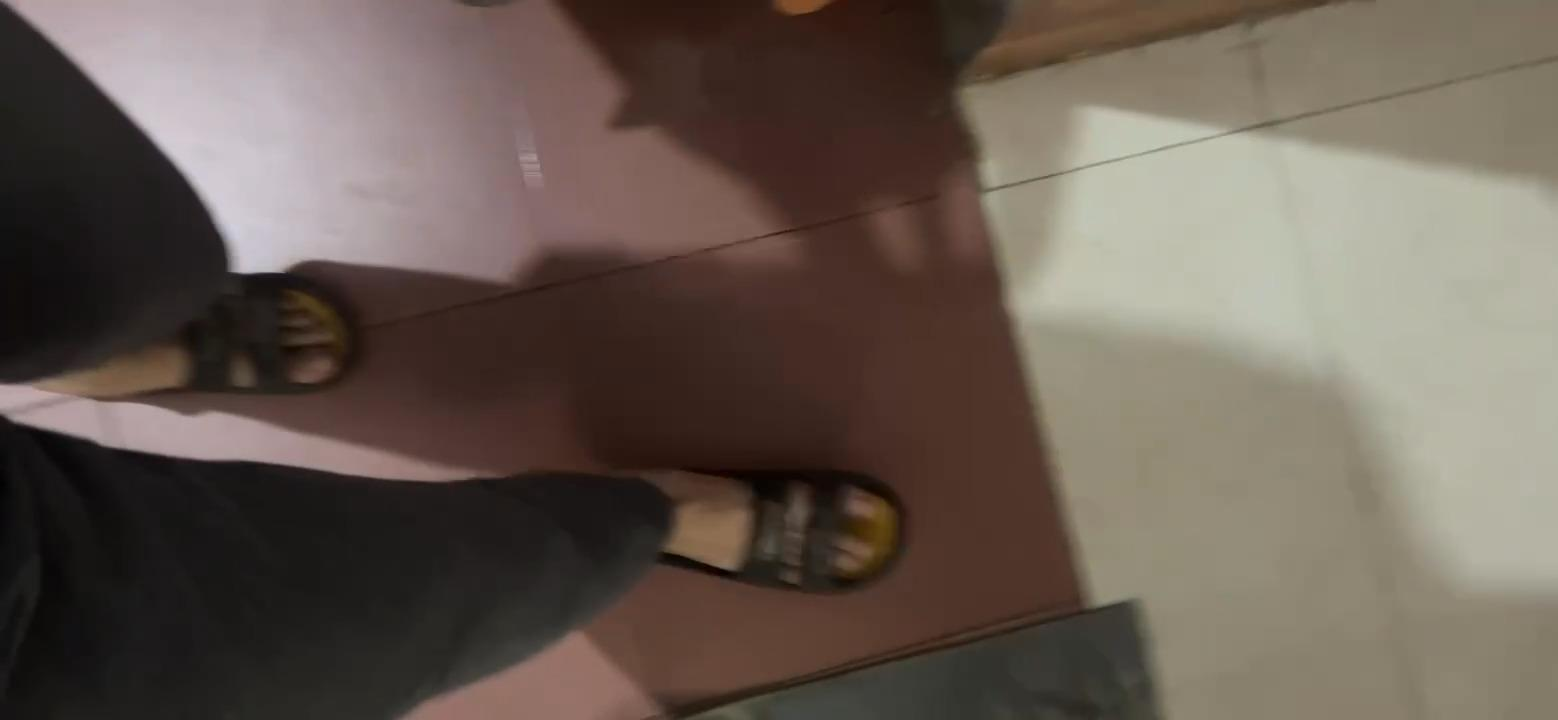no-boot: (629, 443, 914, 594), (89, 263, 361, 396)
